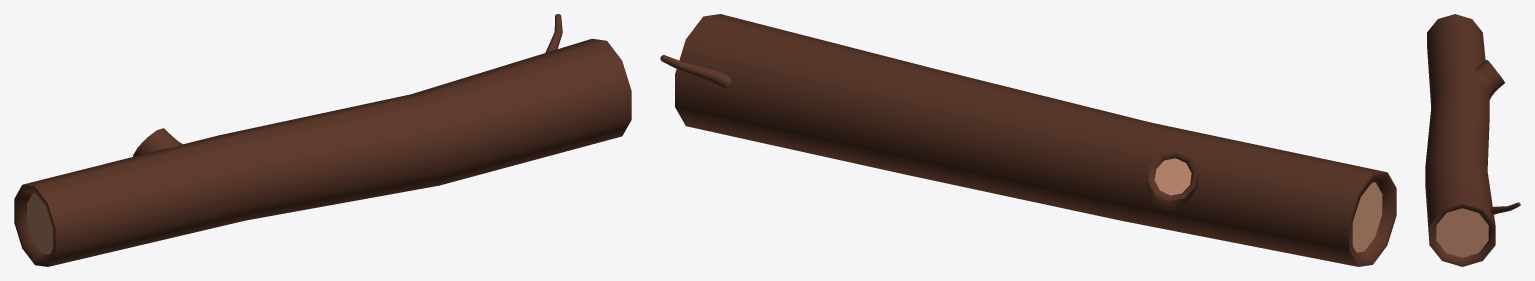
File: Log2.fbx
The picture shows the model from 3 angles, left to right: view 1: azimuth 30°, elevation 25°; view 2: azimuth 150°, elevation 25°; view 3: azimuth 270°, elevation 25°; orthographic projection. The views are drawn at different scales.
Parts seen in each view (by area): view 1: Log2_trunk; view 2: Log2_trunk; view 3: Log2_trunk.
Boxes of the visible parts, x1=… form: Log2_trunk: x1=14, y1=14, x2=631, y2=266; Log2_trunk: x1=660, y1=14, x2=1396, y2=266; Log2_trunk: x1=1425, y1=14, x2=1520, y2=266.
Size of the model in its own units: 704 by 111 by 149.
